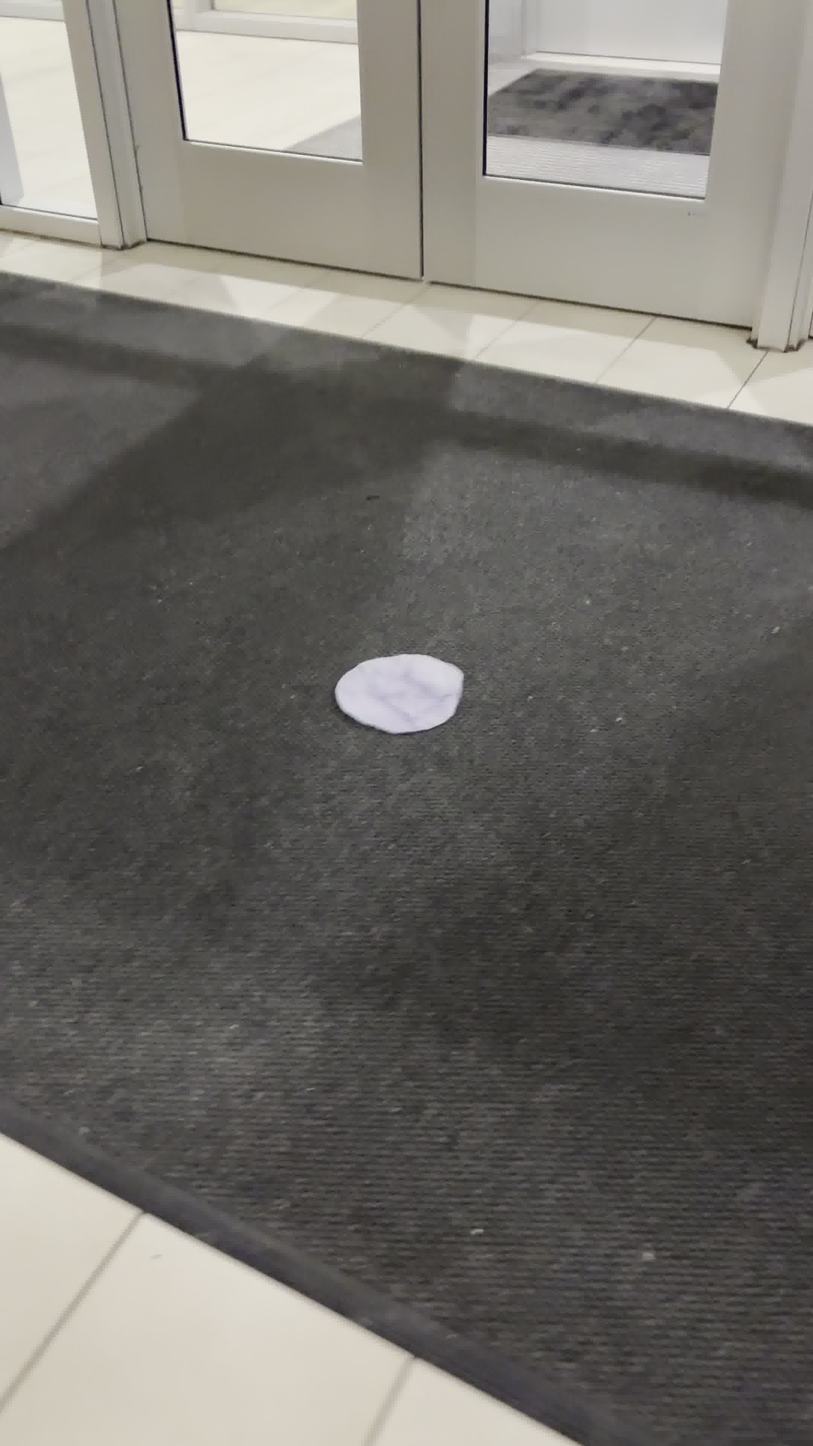Target: (334, 654, 464, 734)
